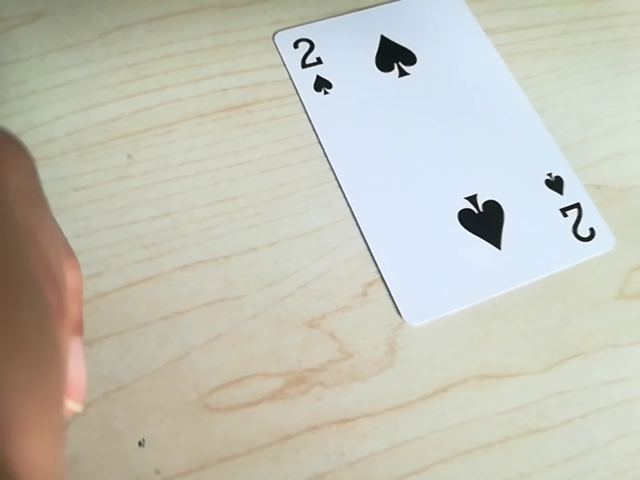ht 2: (542, 166, 598, 248), (281, 29, 336, 100)
